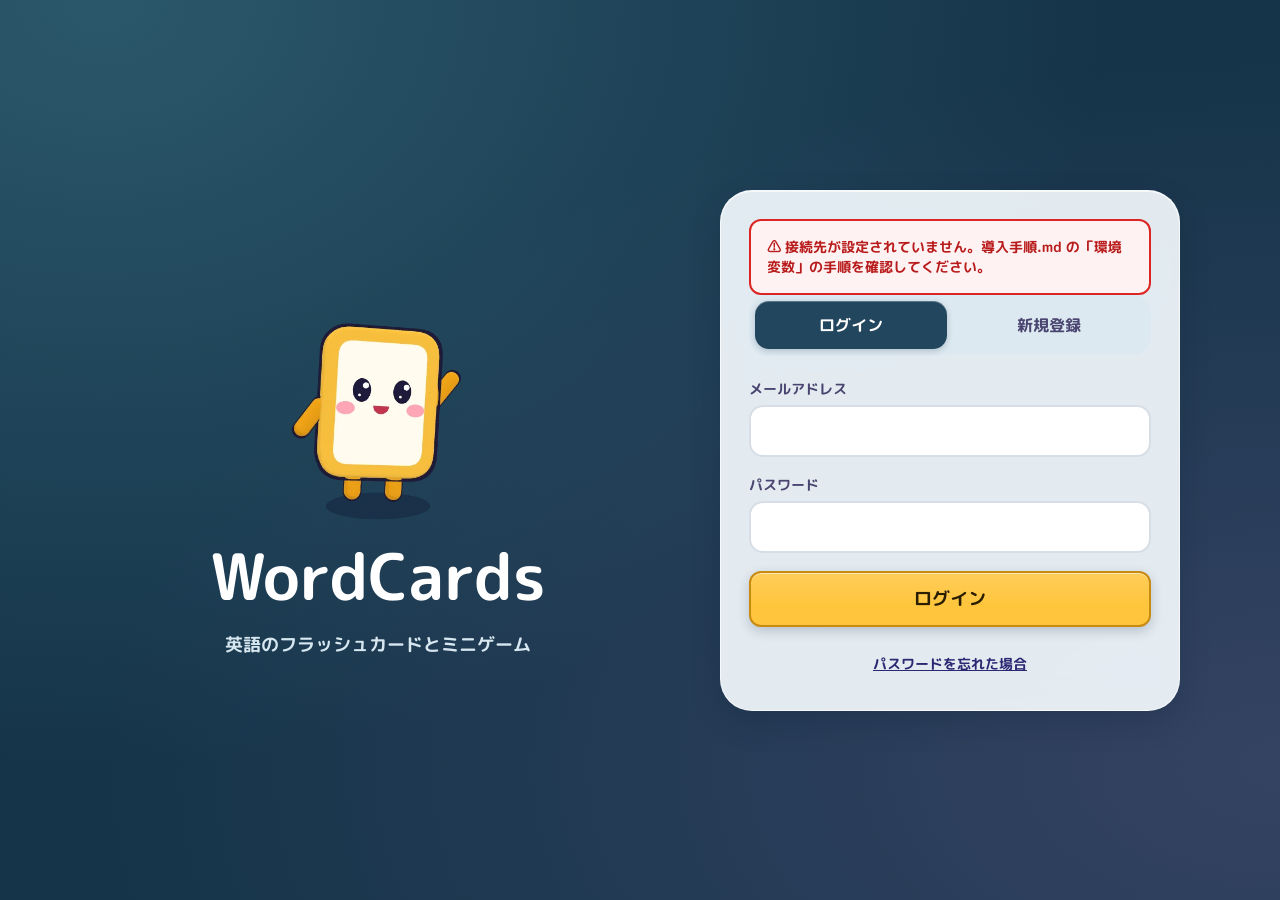
it: 再設定はメールの必須確認・既存の送信先・お知らせを保持する
Click the button "パスワードを忘れた場合" at point(950, 663), box x1=749 y1=644 x2=1151 y2=682
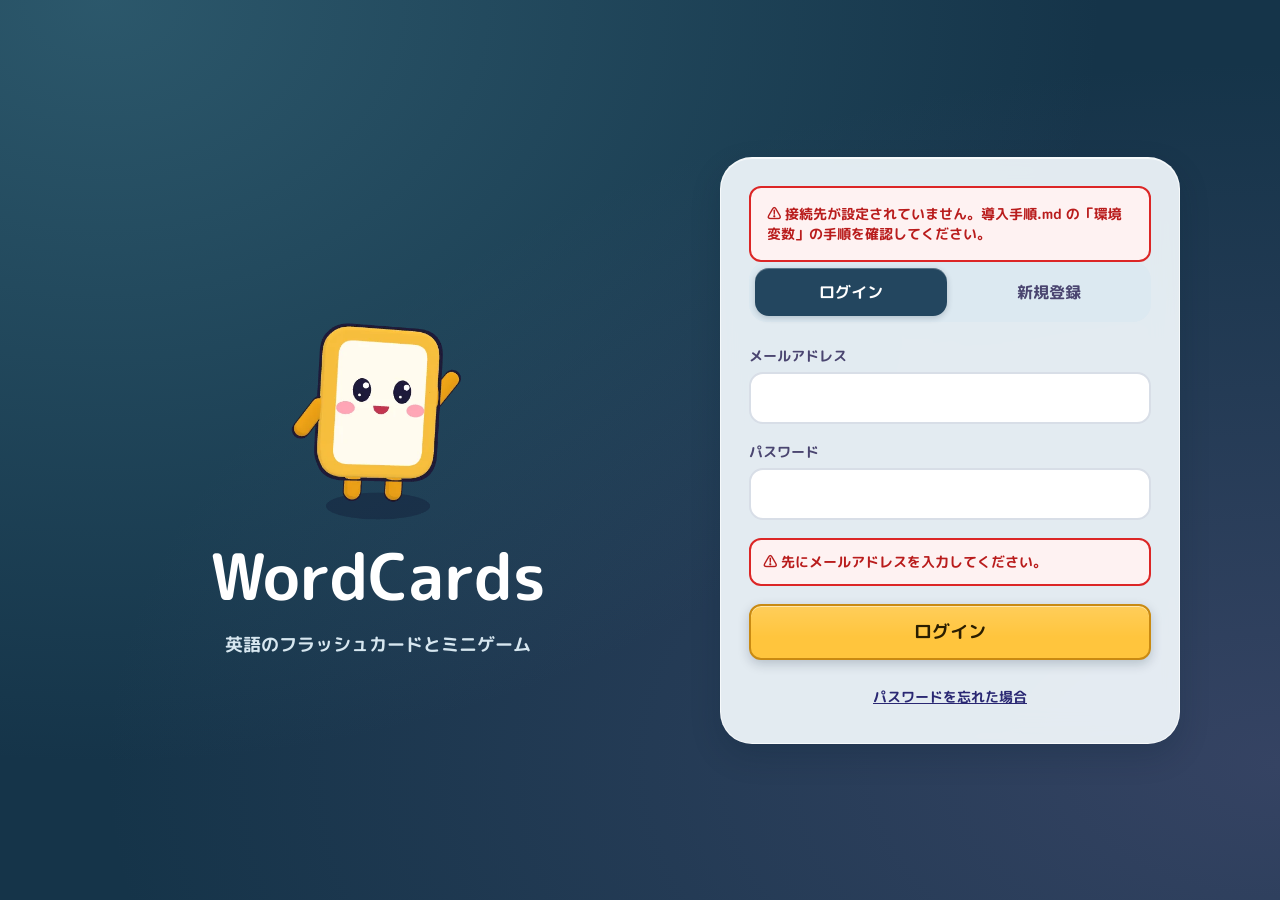
Expected: the text "⚠ 先にメールアドレスを入力してください。" is shown, x1=749 y1=538 x2=1151 y2=586
Type "teacher@example.test" into the field labelled "メールアドレス" at point(950, 398), box x1=749 y1=372 x2=1151 y2=424
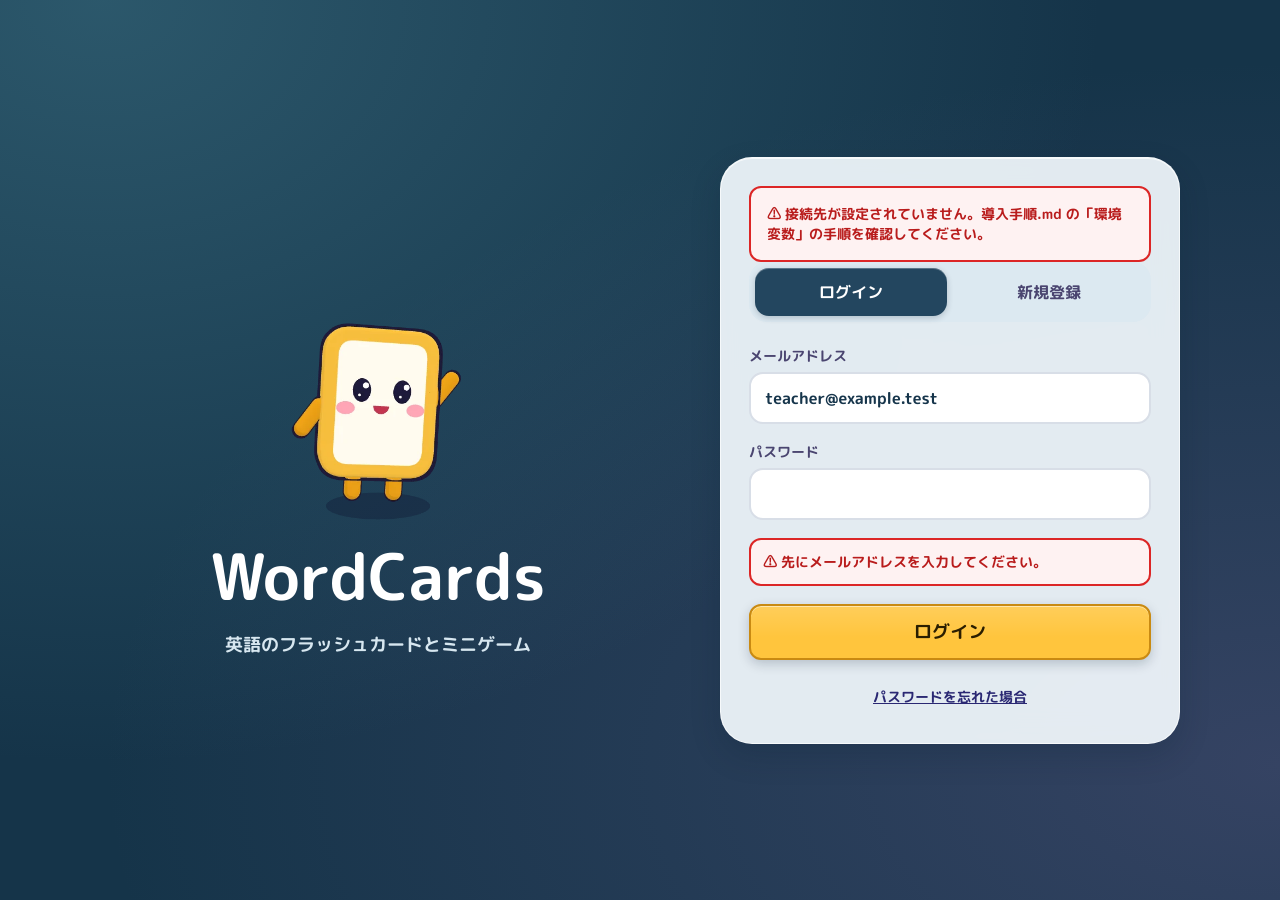
Click the button "パスワードを忘れた場合" at point(950, 696), box x1=749 y1=678 x2=1151 y2=714
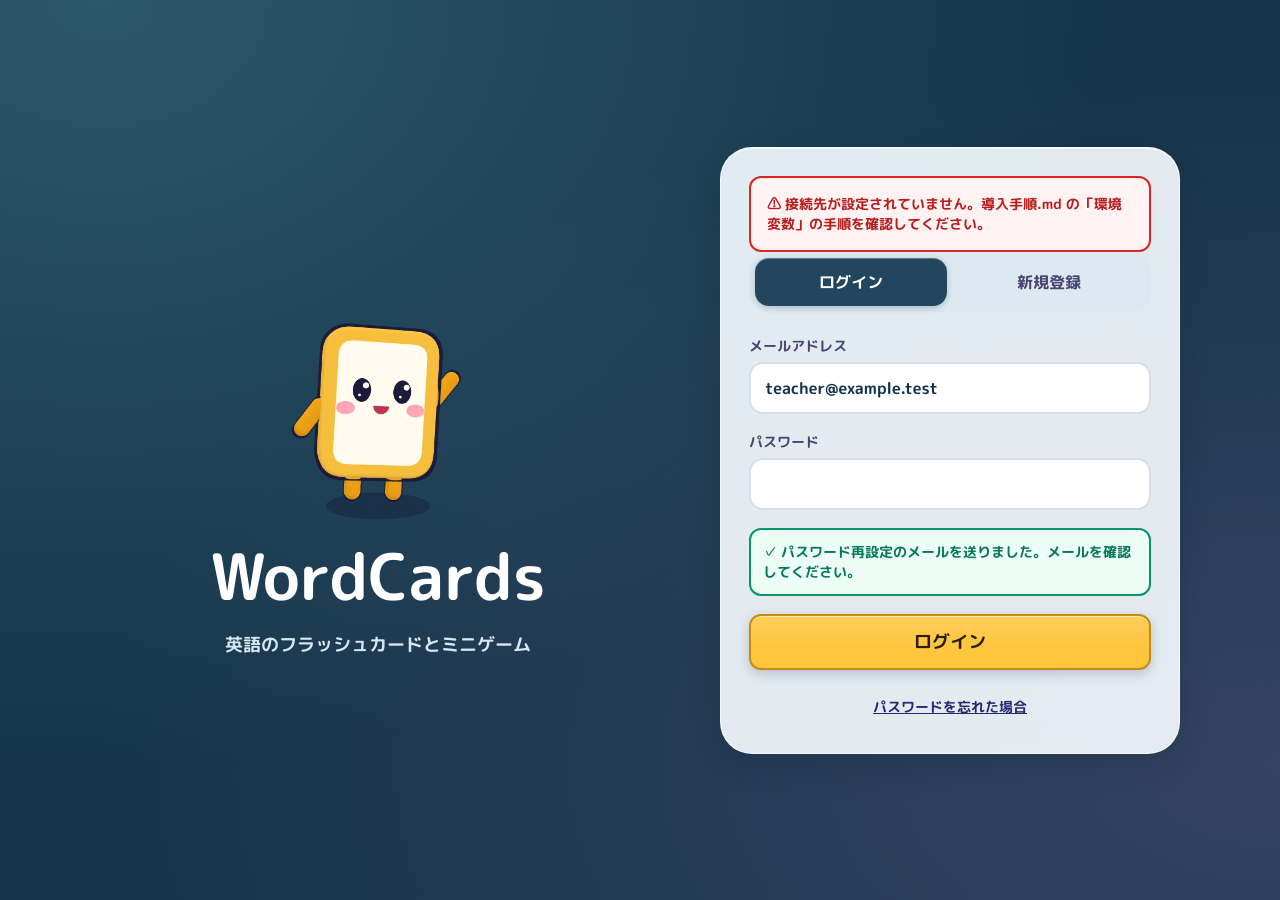
Expected: the text "✓ パスワード再設定のメールを送りました。メールを確認してください。" is shown, x1=749 y1=528 x2=1151 y2=596
